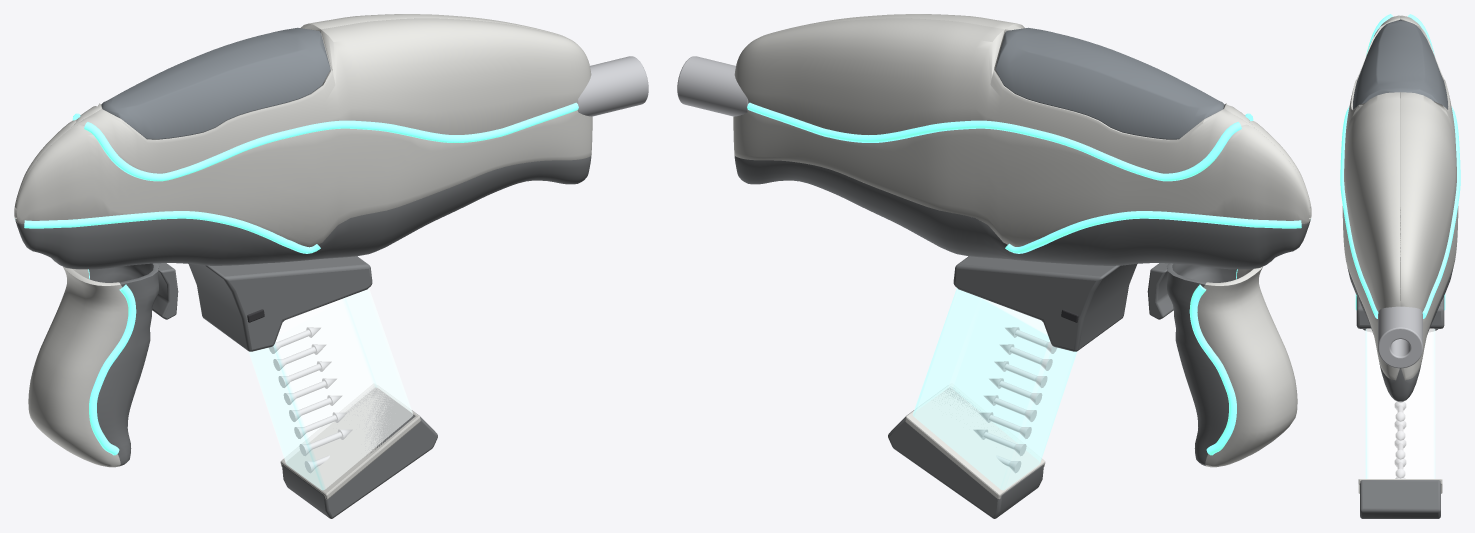
Rendered from pistolet_flechettes.glb.
3 renders of one model, left to right at view 1: azimuth 30°, elevation 25°; view 2: azimuth 150°, elevation 25°; view 3: azimuth 270°, elevation 25°, orthographic. The views are drawn at different scales.
Visible parts, largest first — view 1: FLE_Coque_bande, FLE_Coque_haute, FLE_Chargeur, FLE_Coque_basse, FLE_Panneau, FLE_Crosse_arriere, FLE_Puits, FLE_Culot_bague, FLE_Crosse_avant, FLE_Chargeur_culot, FLE_Lisere_S_g, FLE_Canon (+4 smaller); view 2: FLE_Coque_bande, FLE_Coque_haute, FLE_Chargeur, FLE_Coque_basse, FLE_Panneau, FLE_Crosse_arriere, FLE_Puits, FLE_Culot_bague, FLE_Crosse_avant, FLE_Lisere_S_d, FLE_Chargeur_culot, FLE_Canon (+4 smaller); view 3: FLE_Coque_haute, FLE_Chargeur, FLE_Panneau, FLE_Chargeur_culot, FLE_Canon, FLE_Coque_bande, FLE_Lisere_S_g, FLE_Lisere_S_d, FLE_Coque_basse, FLE_Flechettes, FLE_Puits.
Part boxes in pixels (box(x1,y1,x2,y2)): FLE_Coque_bande: box(14, 110, 592, 247); FLE_Coque_haute: box(71, 14, 591, 173); FLE_Chargeur: box(248, 288, 413, 490); FLE_Coque_basse: box(15, 155, 591, 269); FLE_Panneau: box(101, 27, 330, 139); FLE_Crosse_arriere: box(28, 266, 128, 467); FLE_Puits: box(188, 256, 372, 351); FLE_Culot_bague: box(280, 384, 420, 499); FLE_Crosse_avant: box(89, 263, 159, 465); FLE_Chargeur_culot: box(282, 387, 437, 518); FLE_Lisere_S_g: box(84, 102, 578, 181); FLE_Canon: box(577, 56, 648, 116); FLE_Coque_bande: box(733, 110, 1311, 246); FLE_Coque_haute: box(734, 14, 1254, 173); FLE_Chargeur: box(912, 288, 1077, 490); FLE_Coque_basse: box(734, 155, 1310, 269); FLE_Panneau: box(995, 27, 1224, 139); FLE_Crosse_arriere: box(1197, 266, 1297, 467); FLE_Puits: box(953, 256, 1137, 351); FLE_Culot_bague: box(905, 384, 1045, 499); FLE_Crosse_avant: box(1166, 263, 1236, 465); FLE_Lisere_S_d: box(747, 102, 1241, 181); FLE_Chargeur_culot: box(888, 387, 1043, 518); FLE_Canon: box(677, 56, 748, 116); FLE_Coque_haute: box(1344, 15, 1456, 312); FLE_Chargeur: box(1365, 328, 1435, 478); FLE_Panneau: box(1353, 19, 1447, 109); FLE_Chargeur_culot: box(1360, 480, 1440, 518); FLE_Canon: box(1378, 306, 1422, 368); FLE_Coque_bande: box(1342, 16, 1458, 380); FLE_Lisere_S_g: box(1340, 14, 1392, 318); FLE_Lisere_S_d: box(1408, 14, 1460, 318); FLE_Coque_basse: box(1347, 267, 1453, 401); FLE_Flechettes: box(1394, 401, 1406, 478); FLE_Puits: box(1356, 296, 1444, 328).
Size of the model in its own units: 0.298 by 0.2164 by 0.055.
